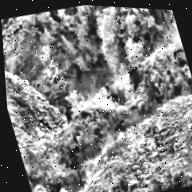boar: (96, 68, 136, 112), (122, 58, 151, 96), (166, 39, 188, 67)
